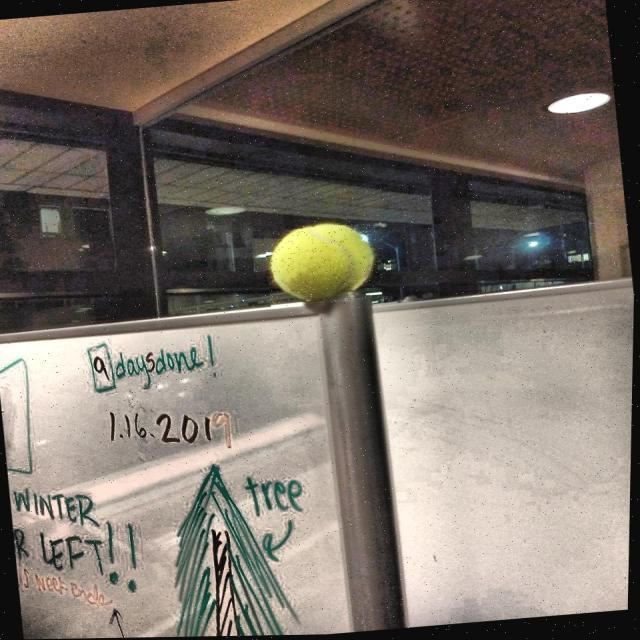tennis-ball: (263, 223, 392, 310)
